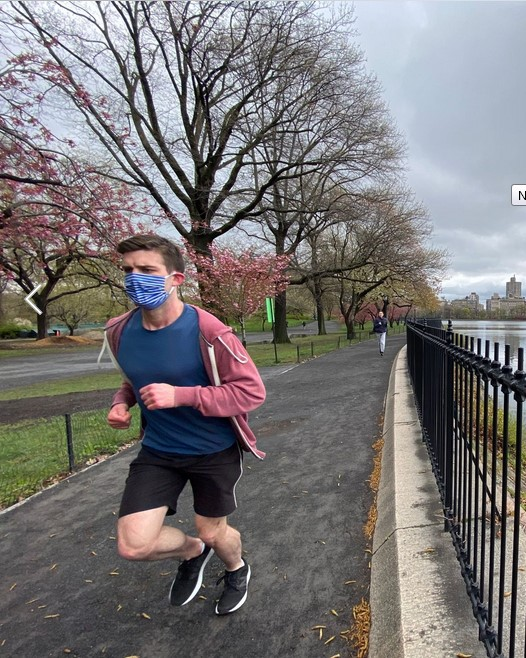face_with_mask: (112, 232, 189, 313)
